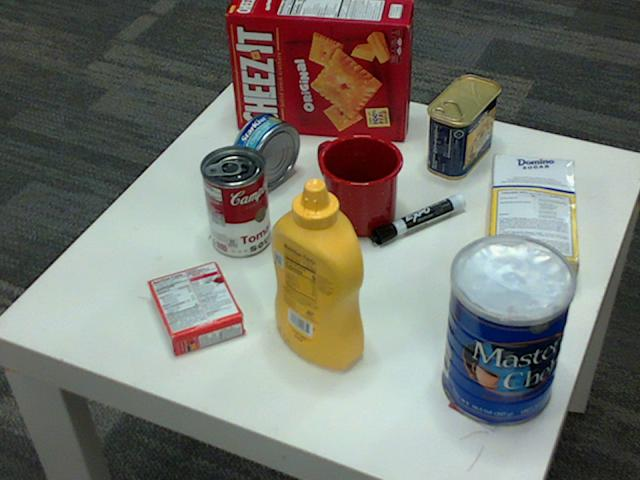cracker_box: (227, 0, 413, 140)
gelatin_box: (144, 260, 241, 355)
large_marker: (371, 197, 466, 244)
master_chef_can: (443, 236, 578, 428)
mug: (316, 132, 402, 235)
mustard_bottle: (271, 180, 363, 370)
potted_meat_can: (425, 76, 498, 180)
sugar_box: (483, 153, 578, 293)
tomato_soup_can: (200, 146, 270, 258)
tuna_fish_can: (229, 112, 299, 190)
